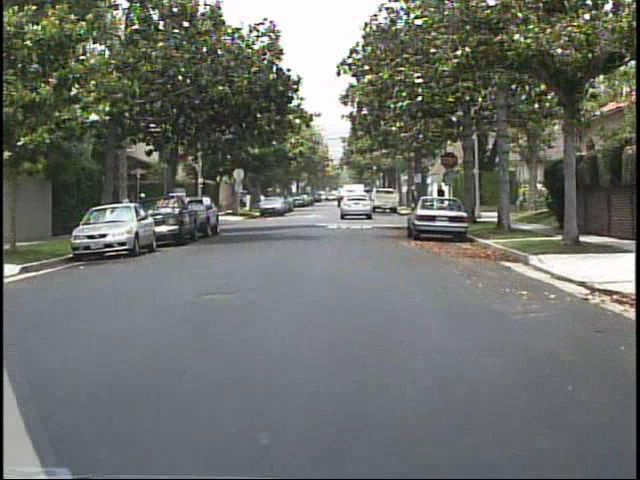person: (122, 190, 139, 230), (432, 181, 449, 213)
